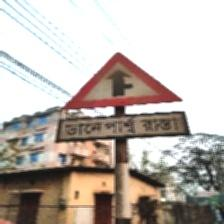Side-road-right: (56, 52, 189, 144)
